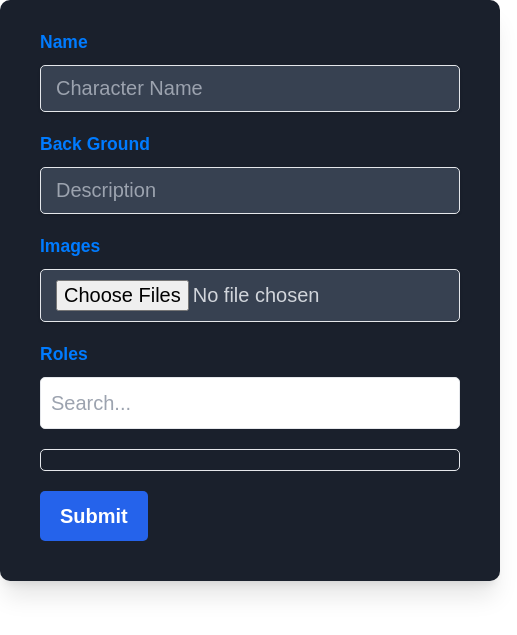
it: CharacterForm Component › displays validation errors when form is submitted with empty required fields
Click the button "Submit".
click(94, 516)  # box [40,491,148,541]
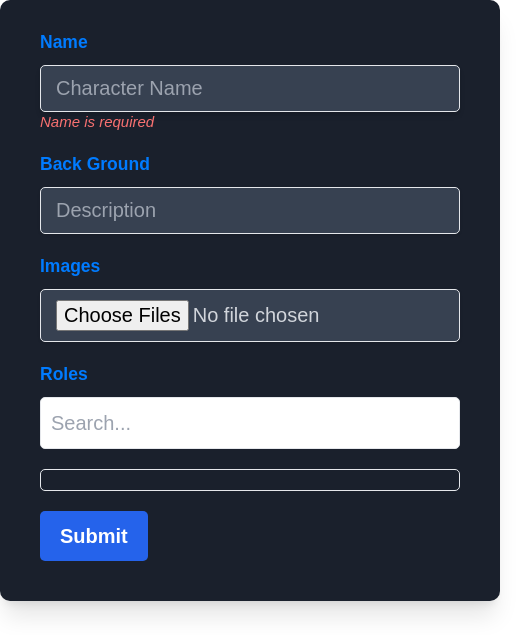
Expected: the text "Name is required" is shown, [40,113,154,130]
